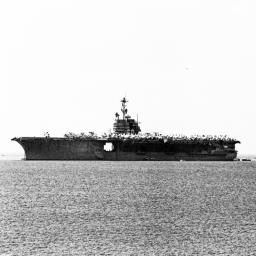Portanaves: (12, 88, 245, 163)
